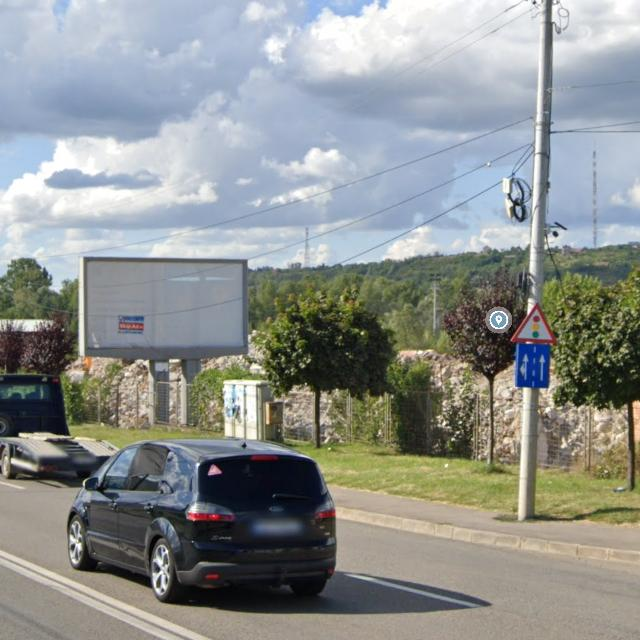warn_traffic_light: (509, 303, 556, 344)
